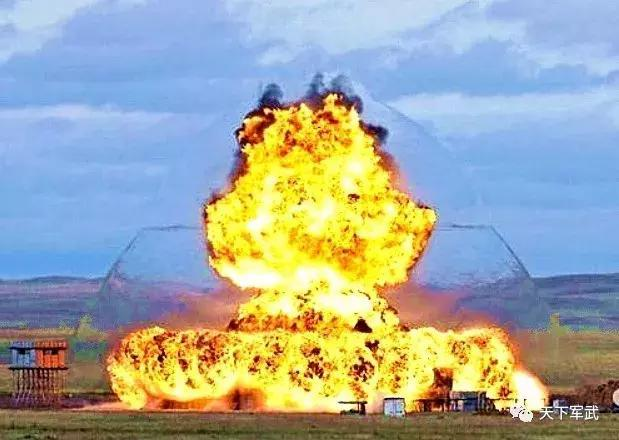fire: (100, 75, 555, 419)
